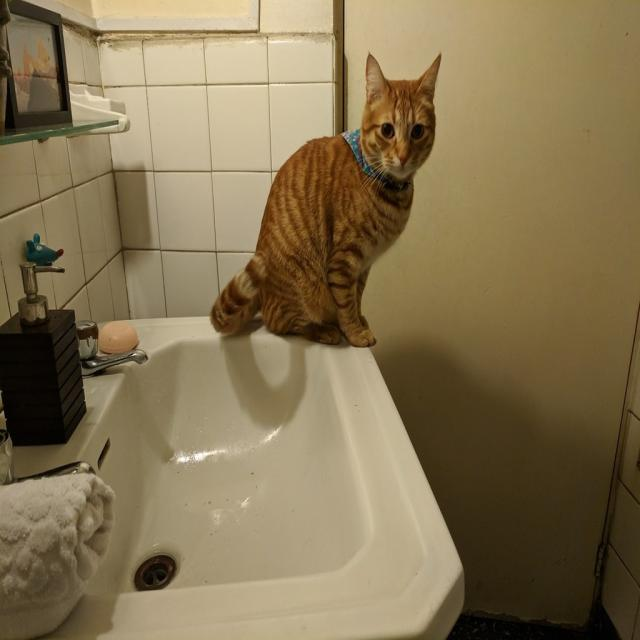Left_ear: (420, 47, 445, 100)
Left_eye: (411, 122, 426, 142)
Nouse: (398, 155, 410, 167)
Right_ear: (364, 50, 389, 101)
Right_eye: (380, 121, 396, 140)
